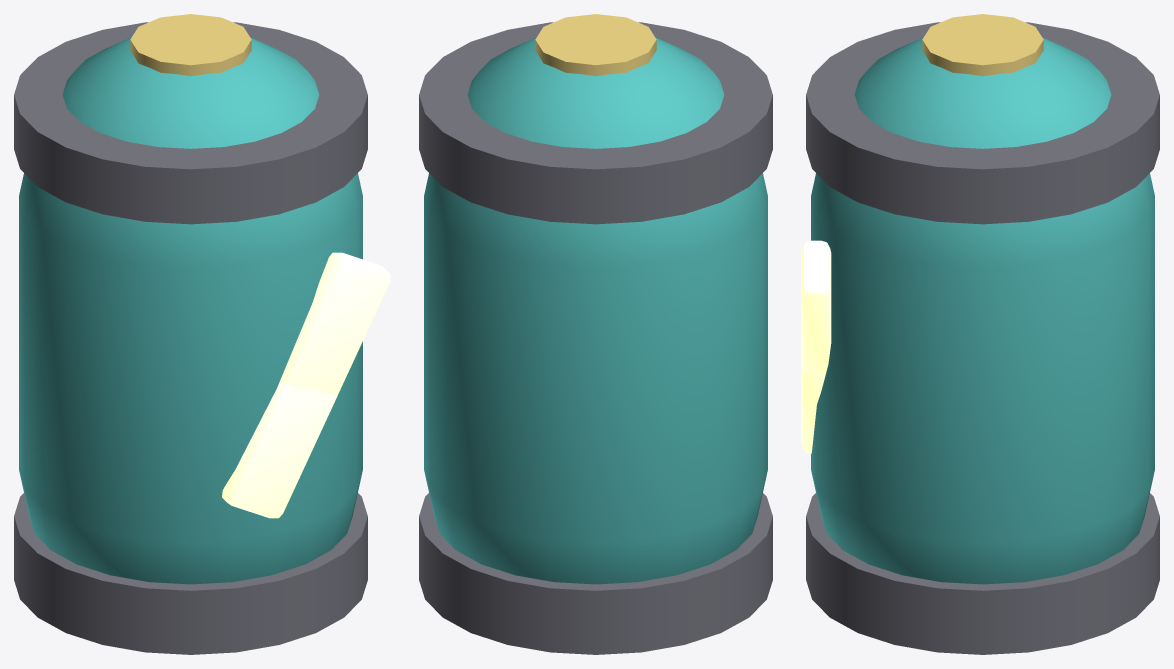
Rendered from ITEM_Battery.fbx.
The picture shows the model from 3 angles, left to right: view 1: azimuth 30°, elevation 25°; view 2: azimuth 150°, elevation 25°; view 3: azimuth 270°, elevation 25°; orthographic projection.
Visible parts, largest first — view 1: ITEM_Battery; view 2: ITEM_Battery; view 3: ITEM_Battery.
Part boxes in pixels (bbox=[...]): ITEM_Battery: bbox=[14, 14, 390, 654]; ITEM_Battery: bbox=[419, 14, 772, 654]; ITEM_Battery: bbox=[801, 14, 1159, 654].
Bounding box in the file's own units: 0.35 × 0.64 × 0.355.
